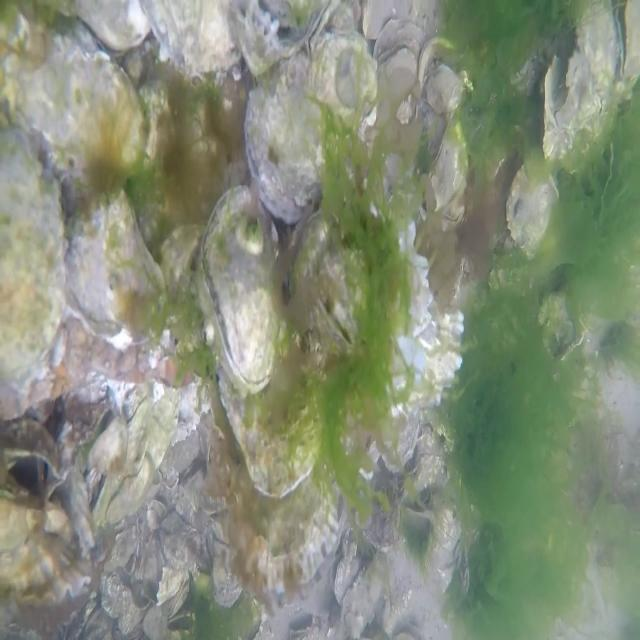Oyster-Closed: (242, 35, 375, 226), (0, 29, 150, 170), (0, 124, 66, 422), (198, 183, 286, 399), (62, 183, 167, 347), (224, 0, 338, 75), (507, 150, 558, 259), (430, 117, 469, 226), (399, 458, 432, 503)
Oyster-Indeterminate: (293, 197, 463, 416), (216, 298, 325, 501), (222, 407, 338, 594), (543, 0, 616, 160), (94, 385, 178, 522), (139, 0, 240, 81), (0, 528, 90, 605), (0, 477, 68, 550), (418, 38, 466, 126), (358, 458, 402, 553), (339, 557, 385, 634), (208, 516, 243, 608), (372, 408, 418, 474)
Oyster-Open: (0, 417, 68, 507), (611, 0, 640, 89), (374, 40, 420, 94), (330, 551, 361, 607), (401, 493, 432, 528)
